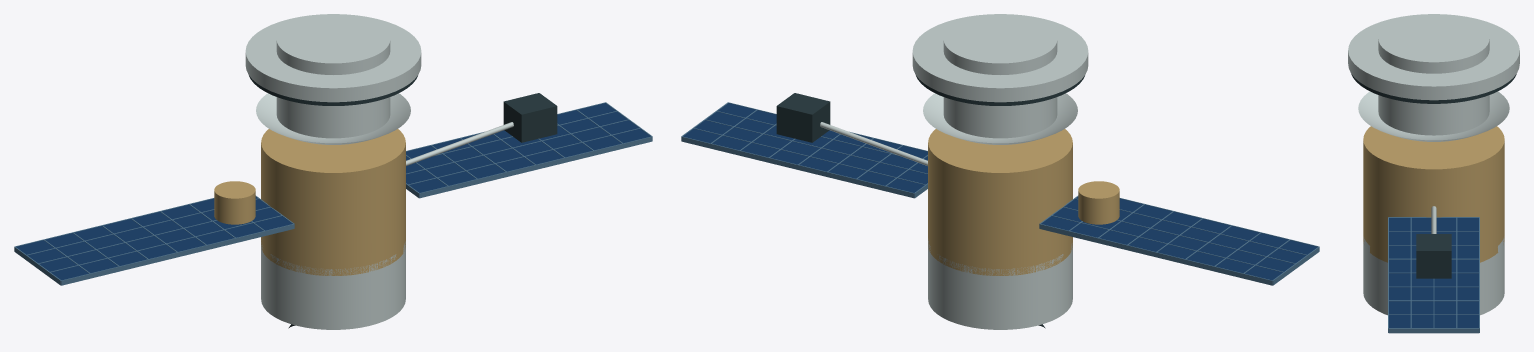
Rendered from bepicolombo.glb.
3 views of the same model, side by side, from view 1: azimuth 30°, elevation 25°; view 2: azimuth 150°, elevation 25°; view 3: azimuth 270°, elevation 25° (orthographic). The views are drawn at different scales.
Visible parts, largest first — view 1: solar (×2), body, payload, service, heatshield, instruments, antenna; view 2: solar (×2), body, payload, service, heatshield, instruments, antenna; view 3: body, solar, payload, heatshield, service, antenna, instruments.
Part boxes in pixels (left/top/right/bottom): solar (×2): left=14, top=102, right=652, bottom=285; body: left=261, top=129, right=405, bottom=275; payload: left=276, top=15, right=390, bottom=138; service: left=261, top=241, right=405, bottom=329; heatshield: left=245, top=14, right=421, bottom=105; instruments: left=214, top=93, right=557, bottom=224; antenna: left=256, top=93, right=410, bottom=144; solar (×2): left=681, top=102, right=1319, bottom=285; body: left=928, top=129, right=1072, bottom=275; payload: left=943, top=15, right=1057, bottom=138; service: left=928, top=239, right=1072, bottom=329; heatshield: left=912, top=14, right=1088, bottom=105; instruments: left=776, top=93, right=1119, bottom=224; antenna: left=923, top=93, right=1077, bottom=144; body: left=1363, top=126, right=1504, bottom=262; solar: left=1388, top=217, right=1479, bottom=333; payload: left=1378, top=15, right=1489, bottom=135; heatshield: left=1348, top=14, right=1519, bottom=103; service: left=1363, top=237, right=1504, bottom=315; antenna: left=1358, top=91, right=1509, bottom=141; instruments: left=1416, top=206, right=1451, bottom=278.
Bounding box in the file's own units: 6.61 × 3.04 × 1.7.
